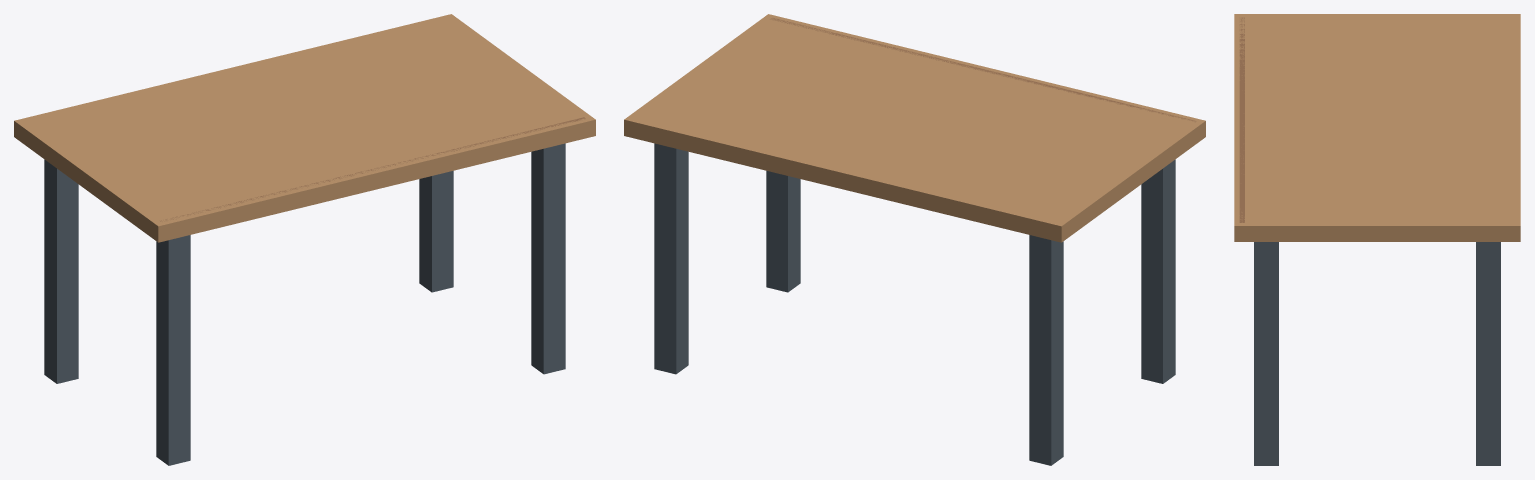
File: Dining_Table_140.fbx
The picture shows the model from 3 angles, left to right: view 1: azimuth 30°, elevation 25°; view 2: azimuth 150°, elevation 25°; view 3: azimuth 270°, elevation 25°; orthographic projection.
Parts seen in each view (by area): view 1: Dining_Table_140; view 2: Dining_Table_140; view 3: Dining_Table_140.
Part boxes in pixels (box(x1,y1,x2,y2)): Dining_Table_140: box(14, 14, 595, 465); Dining_Table_140: box(624, 14, 1205, 465); Dining_Table_140: box(1234, 14, 1520, 465).
Bounding box in the file's own units: 1.4 × 0.77 × 0.8.
